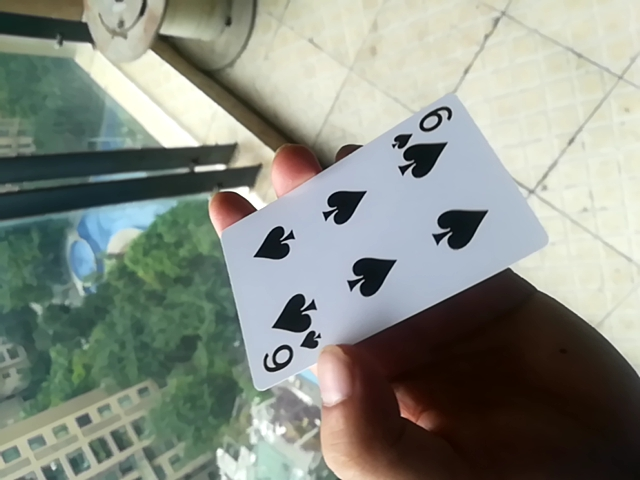ht 6: (211, 106, 558, 398)
